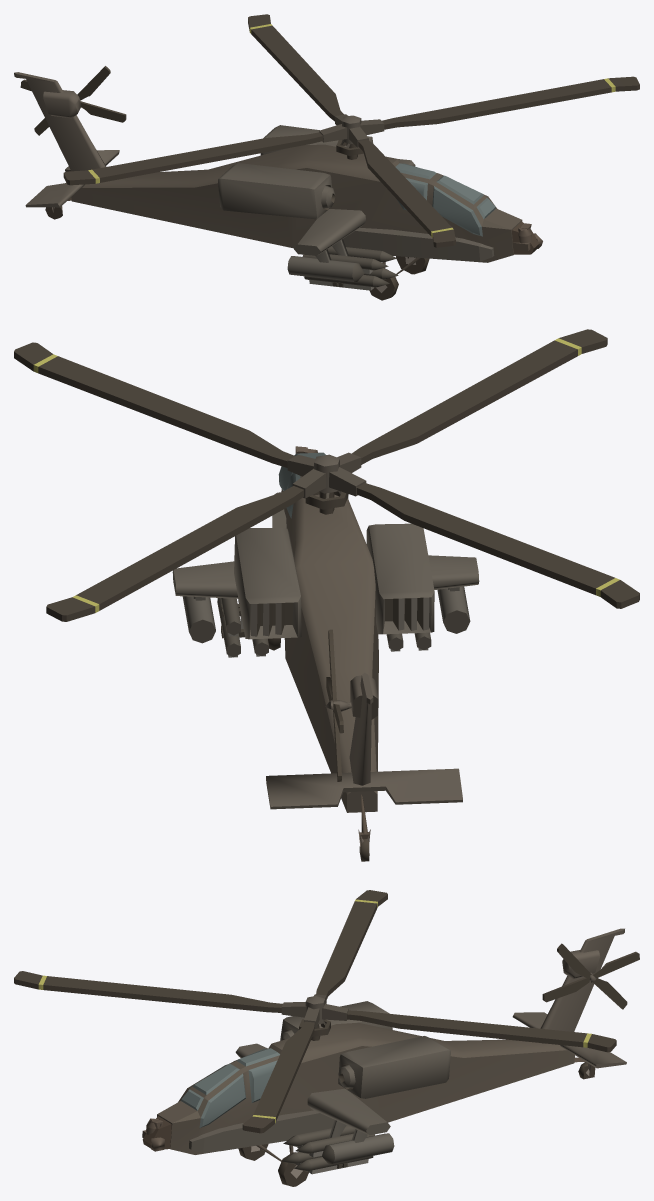
File: ds_heli.glb
3 views of the same model, one above another, from view 1: azimuth 30°, elevation 25°; view 2: azimuth 150°, elevation 25°; view 3: azimuth 270°, elevation 25° (orthographic). The views are drawn at different scales.
Visible parts, largest first — view 1: ds_heli; view 2: ds_heli; view 3: ds_heli.
Part boxes in pixels (x1=…): ds_heli: x1=14, y1=14, x2=639, y2=300; ds_heli: x1=14, y1=329, x2=639, y2=861; ds_heli: x1=14, y1=890, x2=639, y2=1186.
Bounding box in the file's own units: 15.14 × 4.59 × 15.73.
